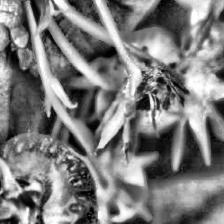Gray Mold: (116, 64, 193, 136)
